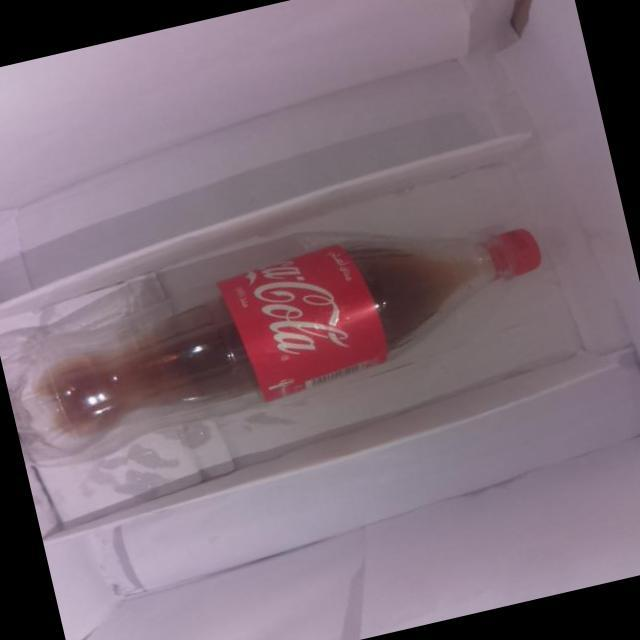good: (0, 161, 587, 490)
